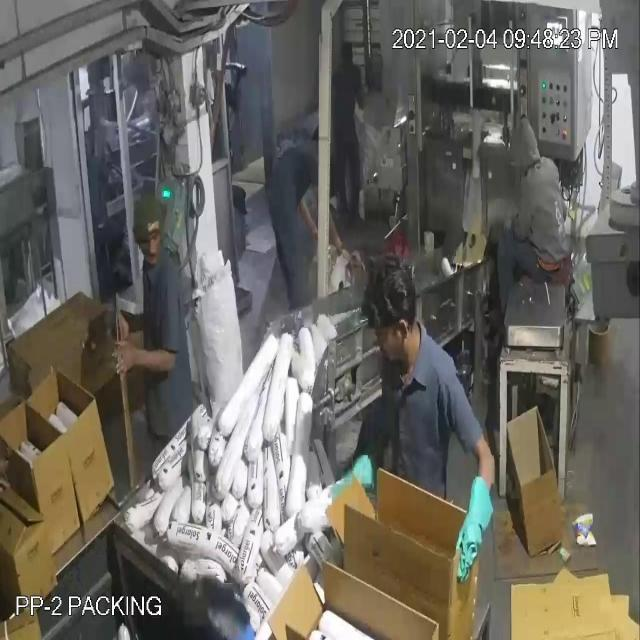No_Gloves: (28, 50, 474, 524)
